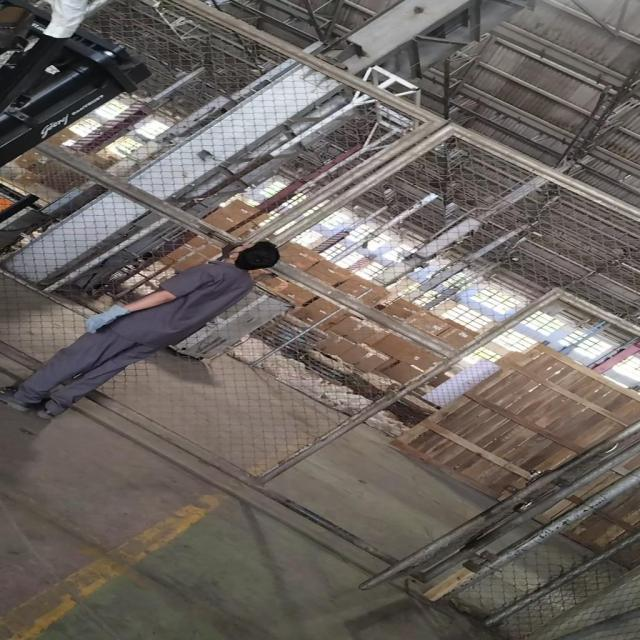Gloves-Detection: (80, 298, 126, 334)
